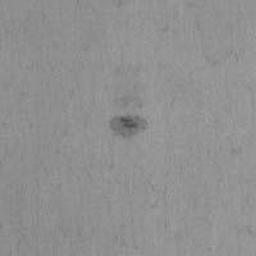Oil spot: (102, 61, 154, 145)
